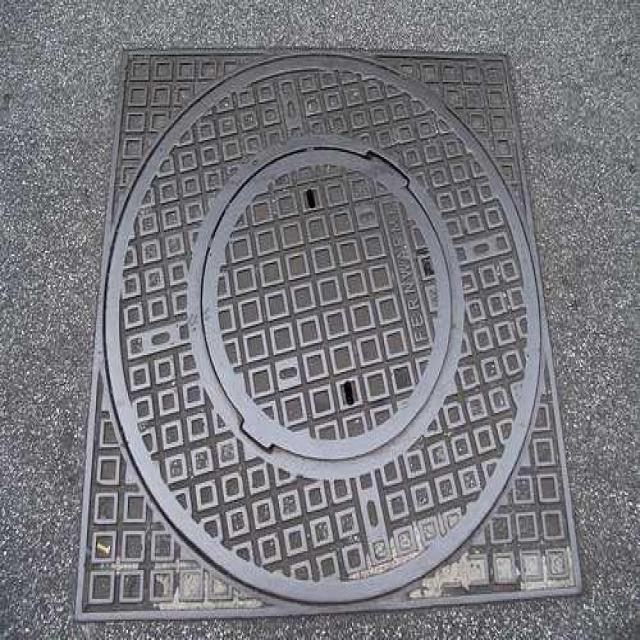manhole: (189, 138, 465, 477)
